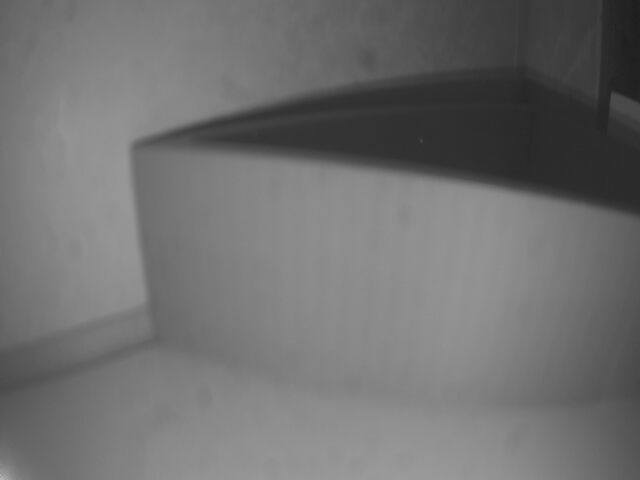Green: (127, 141, 640, 413)
